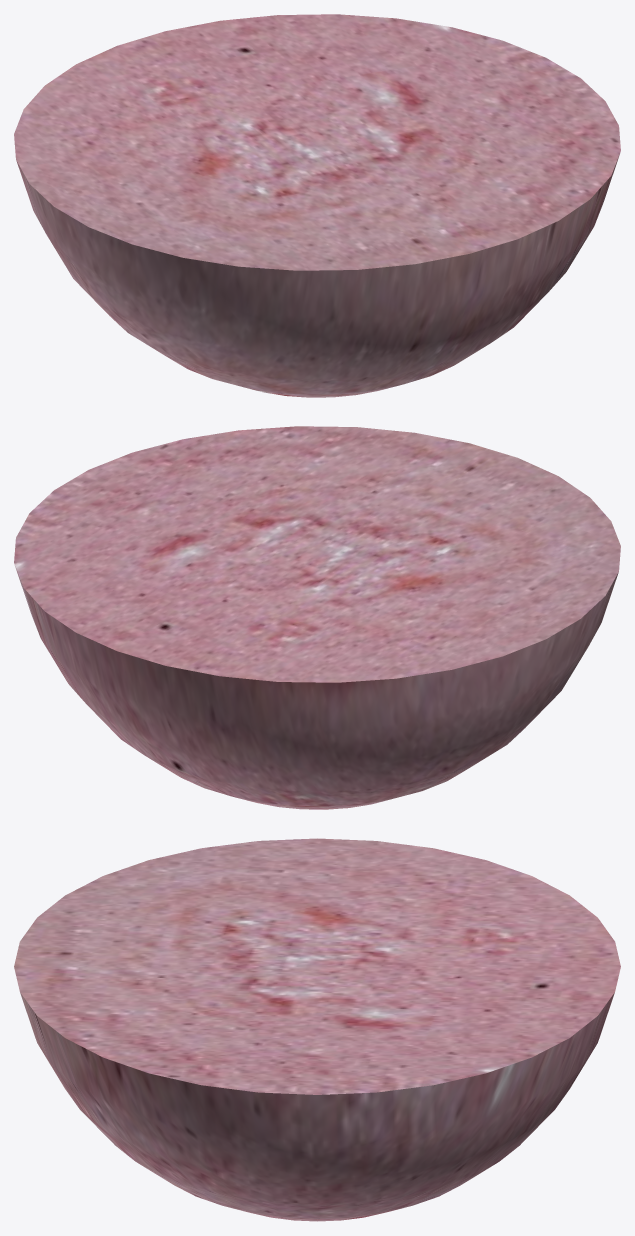
Rendered from shrimp_paste_liquid.fbx.
The picture shows the model from 3 angles, top to bottom: view 1: azimuth 30°, elevation 25°; view 2: azimuth 150°, elevation 25°; view 3: azimuth 270°, elevation 25°; orthographic projection.
Visible parts, largest first — view 1: shrimp paste liquid; view 2: shrimp paste liquid; view 3: shrimp paste liquid.
Boxes of the visible parts, x1,y1,x2,y2 form: shrimp paste liquid: (14,14,620,397); shrimp paste liquid: (14,426,620,809); shrimp paste liquid: (14,838,620,1221).
Bounding box in the file's own units: 13.8 × 5.1 × 13.8.
Materials: 1 (1 with a texture image).
